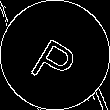P_NE: (26, 24, 84, 86)
